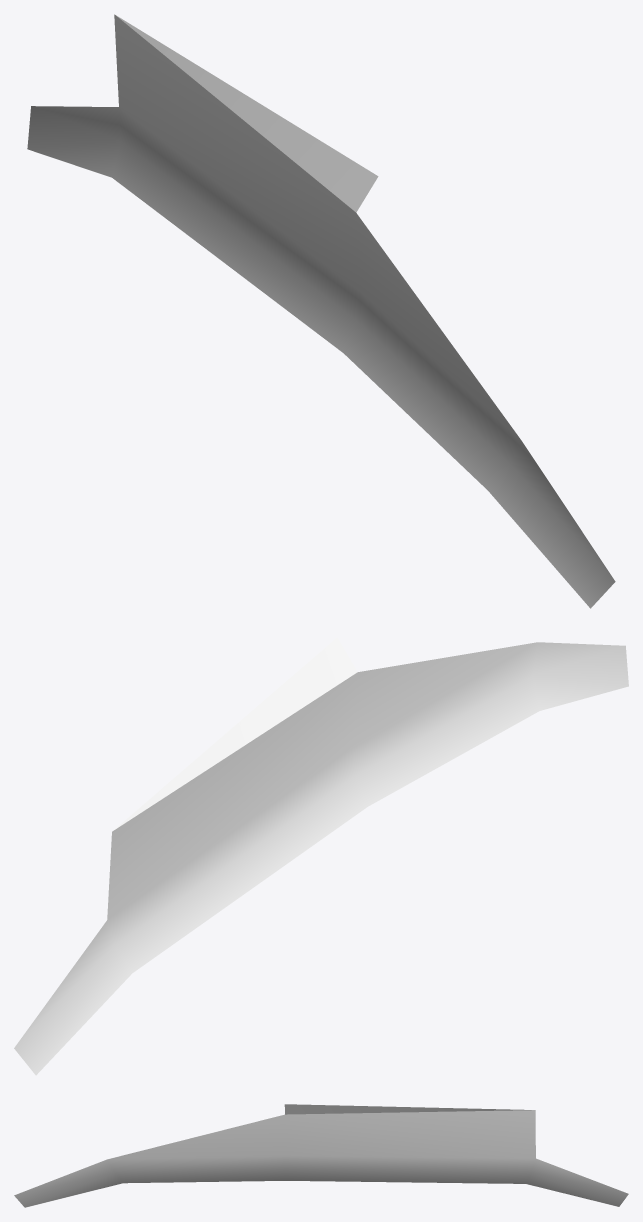
3 renders of one model, top to bottom at view 1: azimuth 30°, elevation 25°; view 2: azimuth 150°, elevation 25°; view 3: azimuth 270°, elevation 25°, orthographic. The views are drawn at different scales.
Bounding box in the file's own units: 0.0214 × 0.0907 × 0.4389.
Materials: 1 (1 with a texture image).
